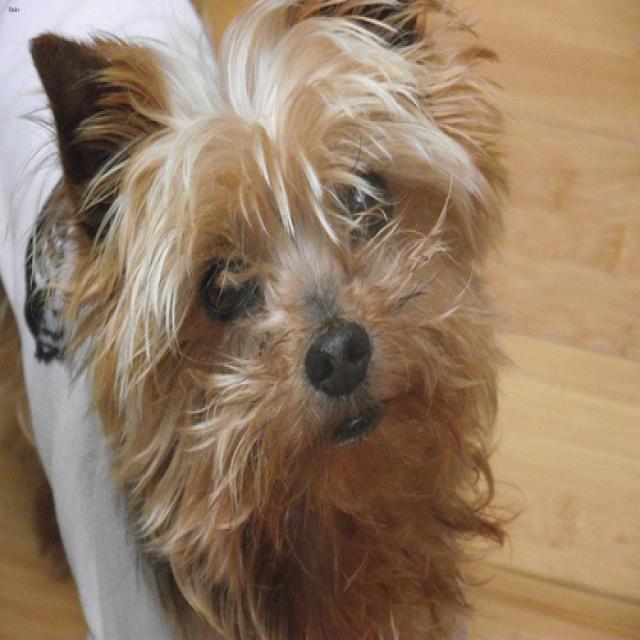dog-yorkshire_terrier: (10, 2, 524, 637)
